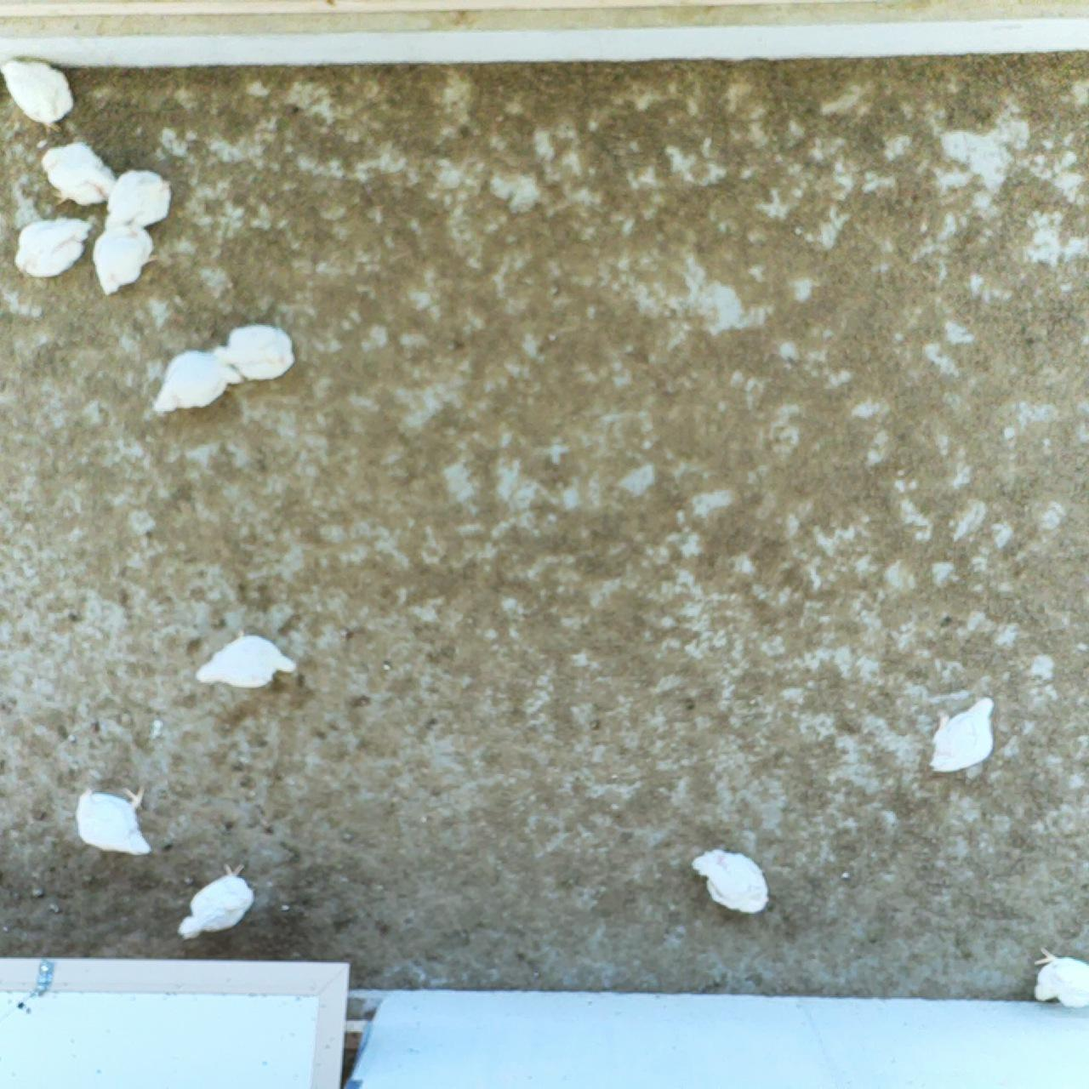chicken: (194, 626, 300, 692), (176, 858, 259, 942), (75, 782, 161, 862), (923, 695, 1004, 779), (685, 845, 776, 919), (0, 52, 78, 136), (209, 319, 301, 387), (145, 348, 229, 419), (9, 210, 94, 280), (88, 216, 162, 296), (36, 139, 120, 208), (103, 166, 177, 233), (1028, 943, 1089, 1010)
